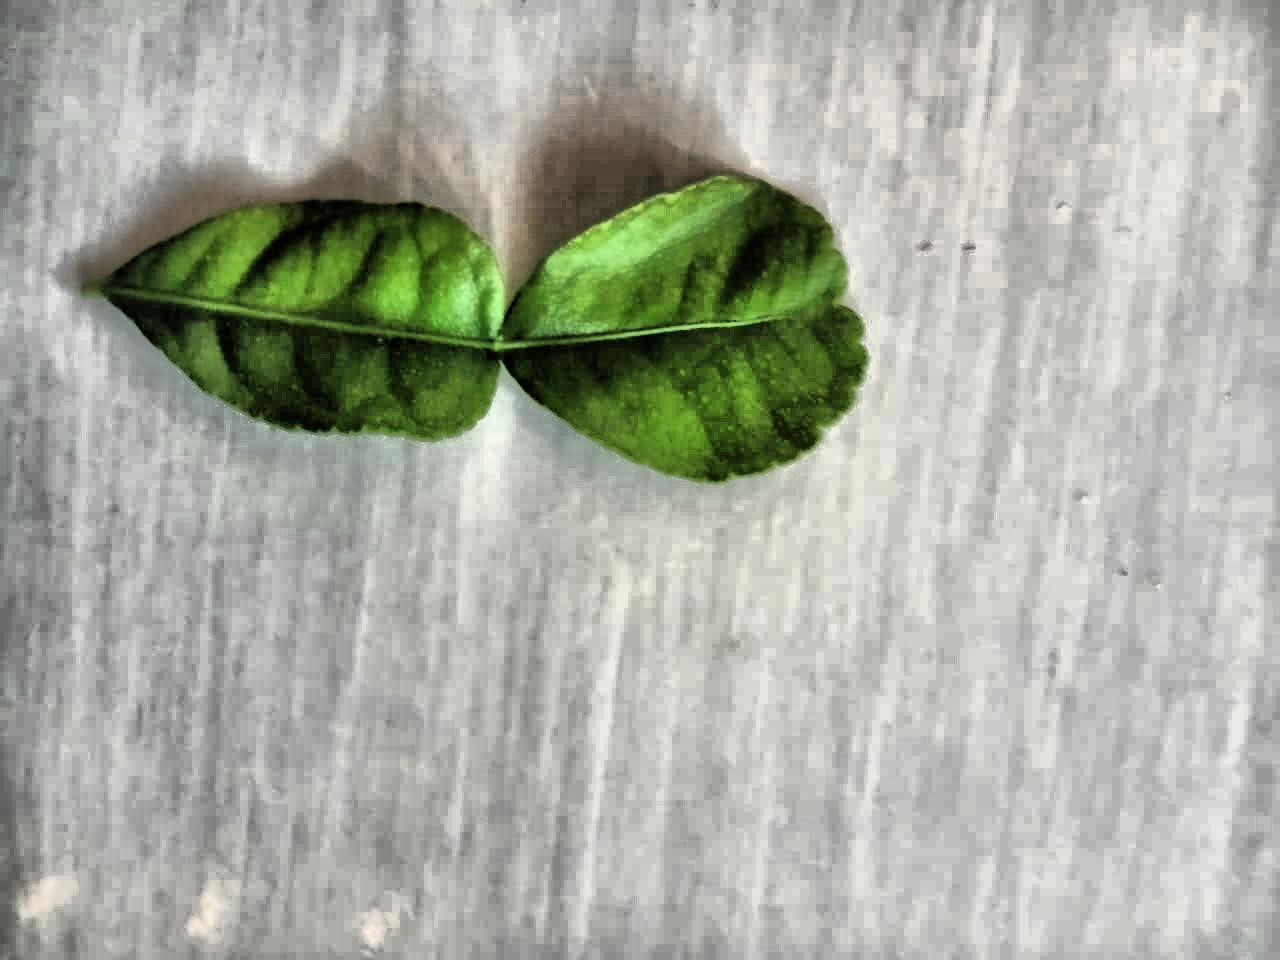daun jeruk: (85, 176, 867, 482)
